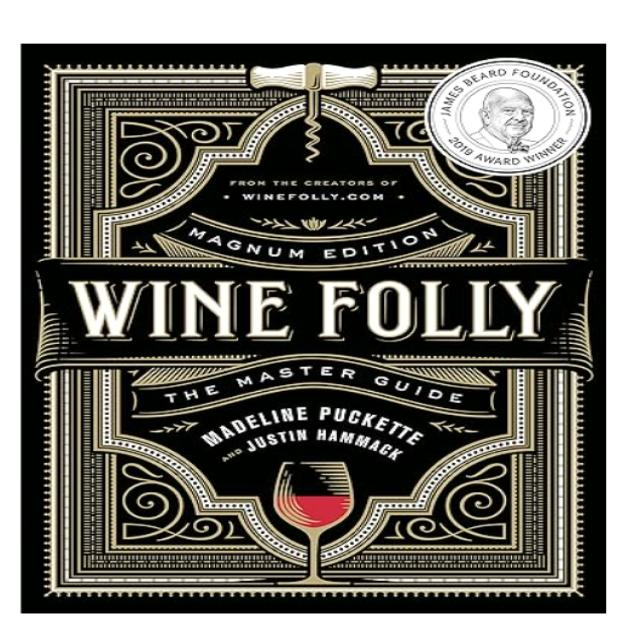titles-or-authors: (58, 268, 571, 355), (193, 403, 438, 471)
